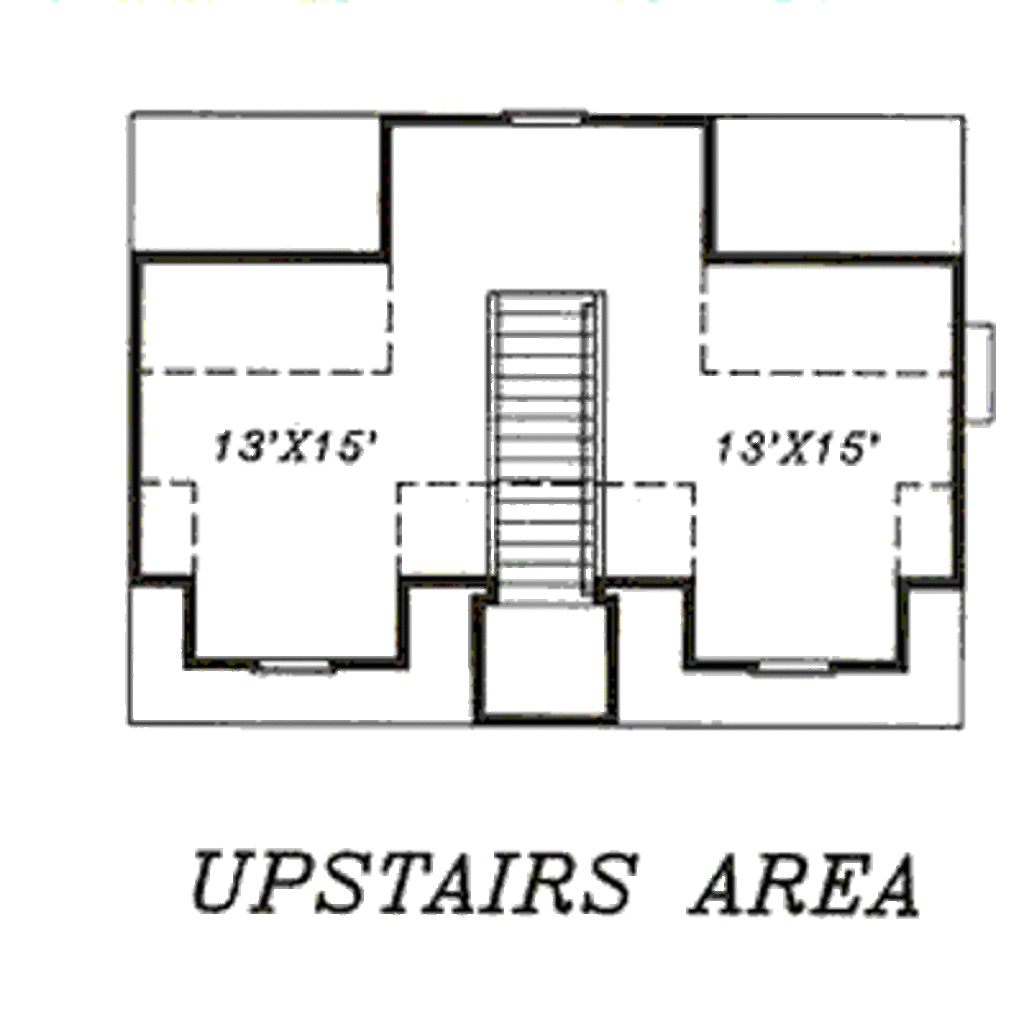stairs: (481, 287, 616, 596)
window: (255, 661, 344, 678), (506, 109, 597, 123), (763, 661, 831, 675)
